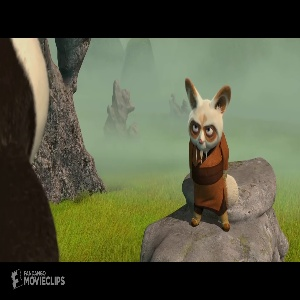po: (1, 38, 64, 260)
shifu: (177, 75, 241, 231)
